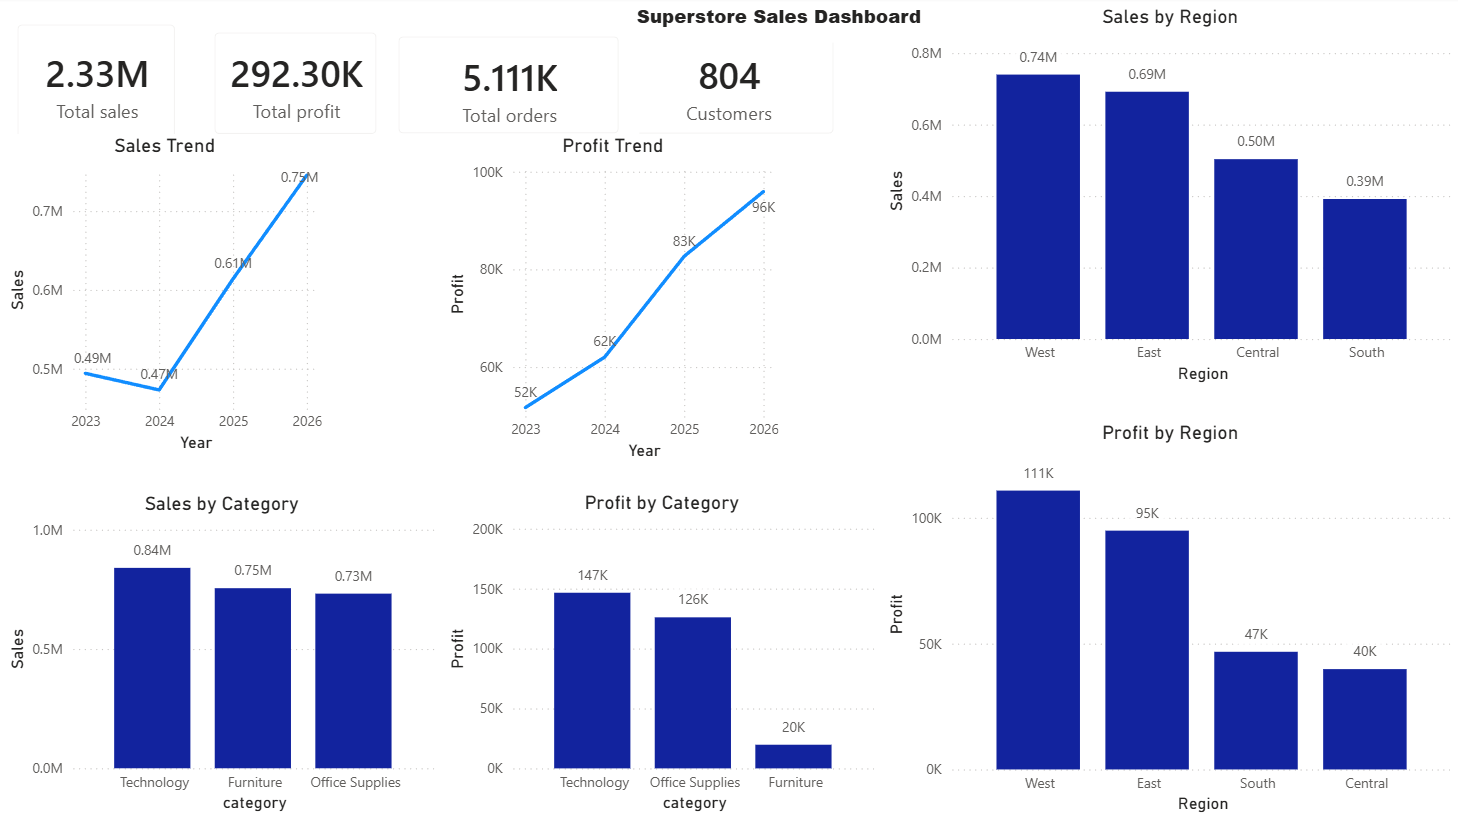

Layout of this report page (visuals, bound fields, positions):
{"tool":"powerbi","page":{"name":"Page 1","canvas":[1280,720],"ordinal":0},"visuals":[{"type":"cardVisual","fields":{"Data":["Sum(cleaned_superstore.sales)"]},"box":[0,6.8,172.2,137.1],"z":0},{"type":"cardVisual","fields":{"Data":["Sum(cleaned_superstore.profit)"]},"box":[172.2,13.6,176,123.5],"z":1000},{"type":"cardVisual","fields":{"Data":["Count(cleaned_superstore.customer_id)"]},"box":[530.1,15.6,219.8,121.6],"z":2000},{"type":"cardVisual","fields":{"Data":["Count(cleaned_superstore.order_id)"]},"box":[333.6,17.5,227.6,119.6],"z":3000},{"type":"lineClusteredColumnComboChart","fields":{"Category":["cleaned_superstore.region"],"Y":["Sum(cleaned_superstore.sales)"]},"box":[773.3,6.8,506.7,335.6],"z":4000},{"type":"lineClusteredColumnComboChart","fields":{"Category":["cleaned_superstore.region"],"Y":["Sum(cleaned_superstore.profit)"]},"box":[773.3,371.6,506.7,348.2],"z":5000},{"type":"lineChart","title":"Sales Trend","fields":{"Category":["cleaned_superstore.order_date.Variation.Date Hierarchy.Year","cleaned_superstore.order_date.Variation.Date Hierarchy.Quarter","cleaned_superstore.order_date.Variation.Date Hierarchy.Month","cleaned_superstore.order_date.Variation.Date Hierarchy.Day"],"Y":["Sum(cleaned_superstore.sales)"]},"box":[3.9,119.6,285,283],"z":6000},{"type":"lineChart","title":"Profit Trend","fields":{"Category":["cleaned_superstore.order_date.Variation.Date Hierarchy.Year","cleaned_superstore.order_date.Variation.Date Hierarchy.Quarter","cleaned_superstore.order_date.Variation.Date Hierarchy.Month","cleaned_superstore.order_date.Variation.Date Hierarchy.Day"],"Y":["Sum(cleaned_superstore.profit)"]},"box":[389.1,119.6,299.6,289.8],"z":7000},{"type":"lineClusteredColumnComboChart","title":"Sales by Category","fields":{"Category":["cleaned_superstore.category"],"Y":["Sum(cleaned_superstore.sales)"]},"box":[3.9,433.8,385.2,285],"z":8000},{"type":"lineClusteredColumnComboChart","title":"Profit by Category","fields":{"Category":["cleaned_superstore.category"],"Y":["Sum(cleaned_superstore.profit)"]},"box":[389.1,432.8,385.2,286],"z":9000},{"type":"textbox","box":[554.4,0,267.5,39.9],"z":10000}]}

Visuals, with their boxes in screenshot pixels (x1, y1, x2, y2), scaled from the page's 1280x720 canvas onto the 1458x819 screenshot:
cardVisual - Sum(cleaned_superstore.sales): Rect(0, 8, 196, 164)
cardVisual - Sum(cleaned_superstore.profit): Rect(196, 15, 397, 156)
cardVisual - Count(cleaned_superstore.customer_id): Rect(604, 18, 854, 156)
cardVisual - Count(cleaned_superstore.order_id): Rect(380, 20, 639, 156)
lineClusteredColumnComboChart - cleaned_superstore.region x Sum(cleaned_superstore.sales): Rect(881, 8, 1457, 389)
lineClusteredColumnComboChart - cleaned_superstore.region x Sum(cleaned_superstore.profit): Rect(881, 423, 1457, 818)
"Sales Trend" lineChart: Rect(4, 136, 329, 458)
"Profit Trend" lineChart: Rect(443, 136, 784, 466)
"Sales by Category" lineClusteredColumnComboChart: Rect(4, 493, 443, 818)
"Profit by Category" lineClusteredColumnComboChart: Rect(443, 492, 882, 818)
textbox: Rect(631, 0, 936, 45)
